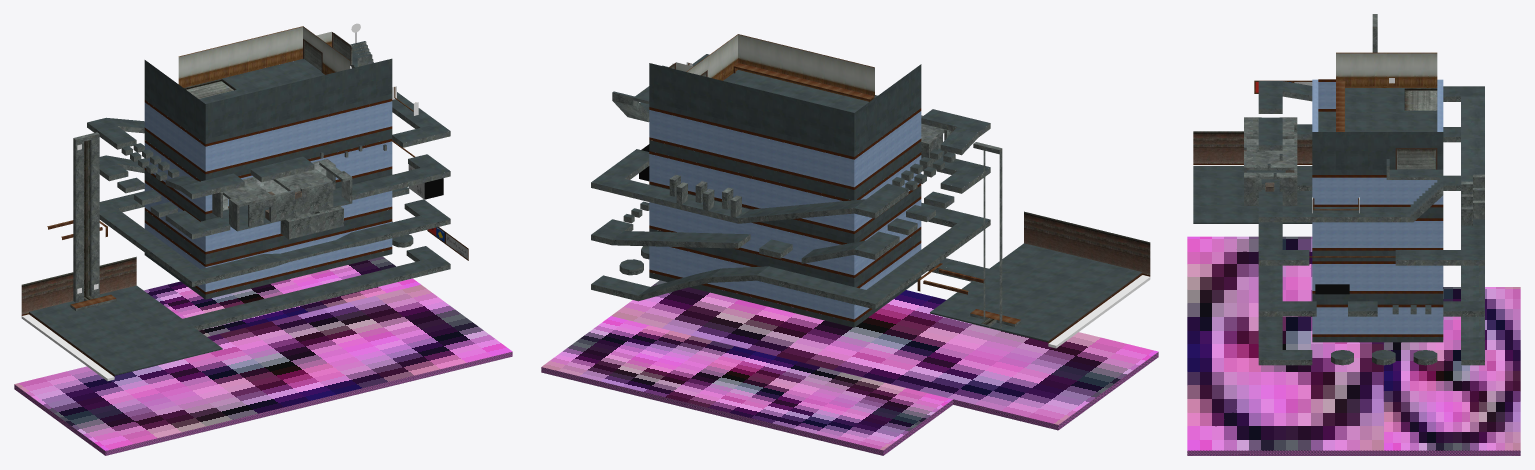
The model's file is deathrun_kosova.glb.
3 views of the same model, side by side, from view 1: azimuth 30°, elevation 25°; view 2: azimuth 150°, elevation 25°; view 3: azimuth 270°, elevation 25° (orthographic). The views are drawn at different scales.
Parts seen in each view (by area): view 1: *0, *57, *3, *6, *34, *1, *7, *8, *10, *70, *2, *49 (+1 smaller); view 2: *0, *57, *3, *6, *8, *7, *1, *2, *49, *34; view 3: *57, *0, *6, *3, *34, *8, *7, *1, *52, *67, *9, *24.
Boxes of the visible parts, x1,y1,x2,y2 form: *0: (21, 26, 450, 376); *57: (14, 256, 512, 455); *3: (29, 285, 222, 375); *6: (144, 101, 392, 171); *34: (212, 159, 352, 231); *1: (144, 221, 392, 291); *7: (144, 183, 392, 251); *8: (144, 141, 392, 211); *10: (191, 286, 327, 329); *70: (280, 206, 343, 239); *2: (21, 314, 114, 381); *49: (121, 143, 179, 177); *0: (591, 34, 1150, 343); *57: (541, 280, 1158, 455); *3: (930, 243, 1142, 342); *6: (649, 110, 921, 187); *8: (649, 154, 921, 231); *7: (649, 199, 921, 275); *1: (649, 243, 921, 319); *2: (1048, 275, 1150, 348); *49: (892, 149, 944, 190); *34: (921, 115, 954, 171); *57: (1187, 236, 1520, 455); *0: (1193, 14, 1484, 365); *6: (1312, 79, 1443, 204); *3: (1193, 166, 1312, 223); *34: (1244, 117, 1297, 205); *8: (1312, 221, 1443, 247); *7: (1312, 264, 1443, 290); *1: (1312, 307, 1443, 334); *52: (1397, 149, 1435, 169); *67: (1404, 90, 1437, 110); *9: (1258, 350, 1282, 365); *24: (1315, 284, 1349, 294).
Size of the model in its own units: 81.6 by 51.84 by 53.76.
Materials: 20 (19 with a texture image).
